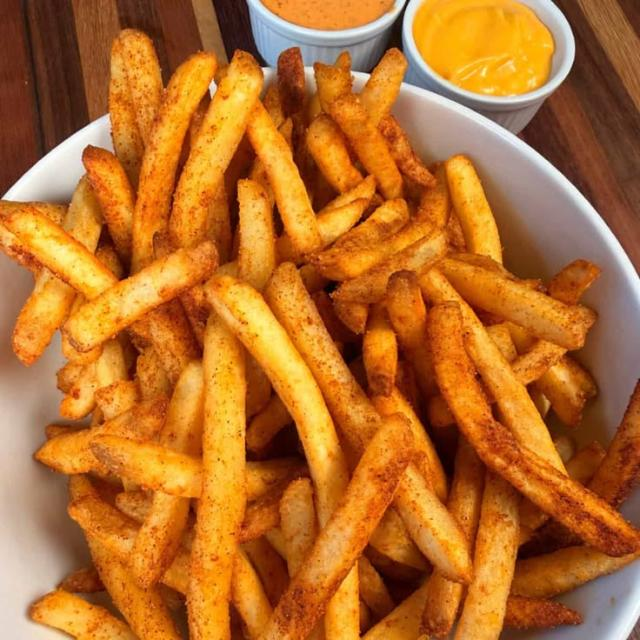potato fries: (0, 32, 639, 639)
